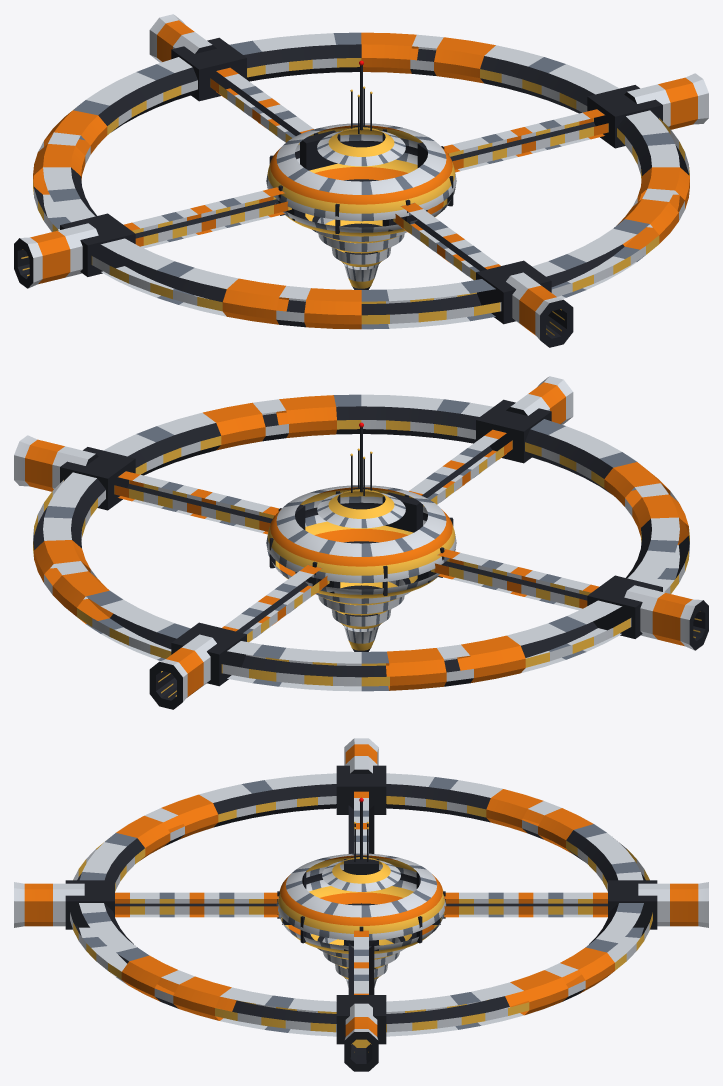
Rendered from orbital_station.obj.
The picture shows the model from 3 angles, top to bottom: view 1: azimuth 30°, elevation 25°; view 2: azimuth 150°, elevation 25°; view 3: azimuth 270°, elevation 25°; orthographic projection. The views are drawn at different scales.
Parts seen in each view (by area): view 1: Outer_Ring, Central_Hub, Spoke_PosX, Spoke_NegX, DockingPort_West, DockingPort_South, Spoke_NegY, Spoke_PosY, DockingPort_East, Ring_Junction_18, Ring_Junction_36, Ring_Junction_0 (+3 smaller); view 2: Outer_Ring, Central_Hub, Spoke_PosX, Spoke_NegX, DockingPort_West, DockingPort_North, Spoke_PosY, Spoke_NegY, DockingPort_East, Ring_Junction_54, Ring_Junction_36, Ring_Junction_0 (+3 smaller); view 3: Outer_Ring, Central_Hub, Spoke_PosY, Spoke_NegY, DockingPort_North, DockingPort_South, DockingPort_East, Ring_Junction_36, Spoke_PosX, Ring_Junction_18, Ring_Junction_54, Ring_Junction_0 (+2 smaller).
Boxes of the visible parts, box(x1,y1,x2,y2) form: Outer_Ring: box(33, 32, 689, 329); Central_Hub: box(266, 123, 456, 289); Spoke_PosX: box(444, 109, 608, 172); Spoke_NegX: box(123, 187, 291, 248); DockingPort_West: box(14, 223, 98, 288); DockingPort_South: box(506, 272, 573, 347); Spoke_NegY: box(393, 202, 500, 280); Spoke_PosY: box(210, 67, 313, 142); DockingPort_East: box(624, 73, 708, 129); Ring_Junction_18: box(171, 37, 246, 101); Ring_Junction_36: box(60, 213, 135, 276); Ring_Junction_0: box(587, 85, 662, 148); Outer_Ring: box(33, 394, 689, 691); Central_Hub: box(266, 485, 456, 651); Spoke_PosX: box(114, 471, 278, 534); Spoke_NegX: box(431, 549, 599, 610); DockingPort_West: box(624, 585, 708, 650); DockingPort_North: box(149, 634, 216, 709); Spoke_PosY: box(222, 564, 329, 642); Spoke_NegY: box(409, 429, 512, 504); DockingPort_East: box(14, 435, 98, 491); Ring_Junction_54: box(476, 399, 551, 463); Ring_Junction_36: box(587, 575, 662, 638); Ring_Junction_0: box(60, 447, 135, 510); Outer_Ring: box(70, 773, 652, 1036); Central_Hub: box(276, 853, 446, 987); Spoke_PosY: box(441, 892, 607, 917); Spoke_NegY: box(115, 892, 281, 917); DockingPort_North: box(638, 882, 708, 927); DockingPort_South: box(14, 882, 84, 927); DockingPort_East: box(344, 1003, 378, 1071); Ring_Junction_36: box(336, 765, 386, 814); Spoke_PosX: box(348, 930, 374, 994); Ring_Junction_18: box(608, 880, 657, 929); Ring_Junction_54: box(65, 880, 114, 929); Ring_Junction_0: box(336, 995, 386, 1044).
Size of the model in its own units: 1230 by 414 by 1230.
